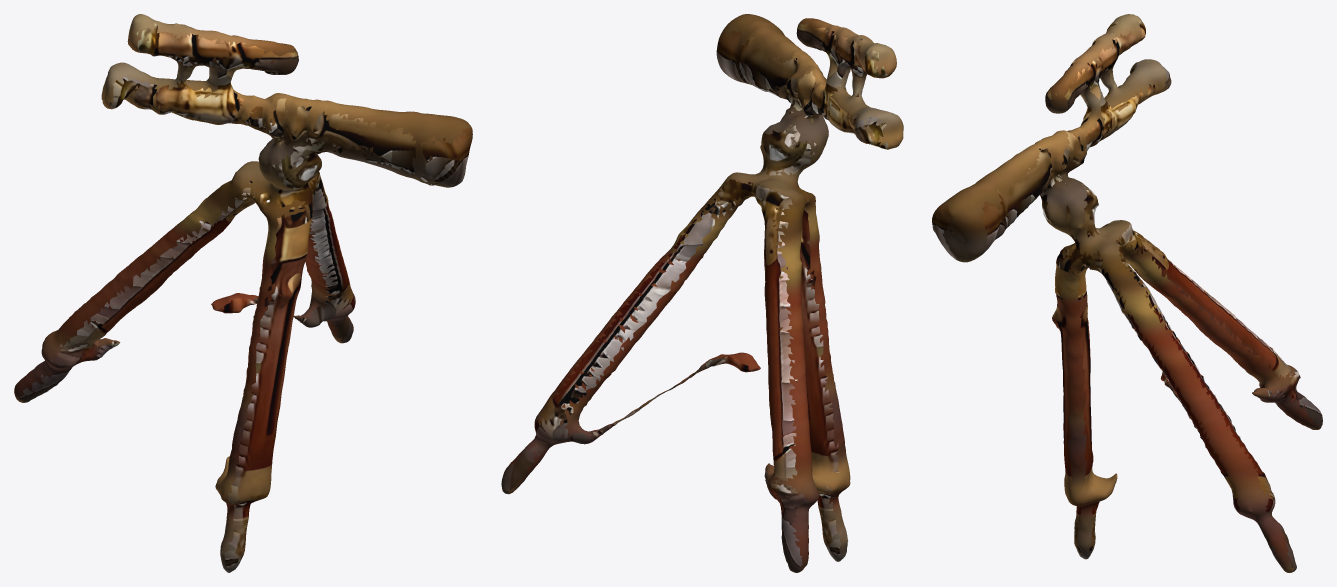
The model's file is kfl-2307.glb.
The picture shows the model from 3 angles, left to right: view 1: azimuth 30°, elevation 25°; view 2: azimuth 150°, elevation 25°; view 3: azimuth 270°, elevation 25°; orthographic projection. The views are drawn at different scales.
Visible parts, largest first — view 1: kfl-2307; view 2: kfl-2307; view 3: kfl-2307.
Boxes of the visible parts, box(x1,y1,x2,y2) form: kfl-2307: box(14, 14, 472, 572); kfl-2307: box(501, 14, 903, 572); kfl-2307: box(932, 14, 1322, 572).
Size of the model in its own units: 0.6067 by 0.9903 by 0.6805.
4 materials, 4 textured.
